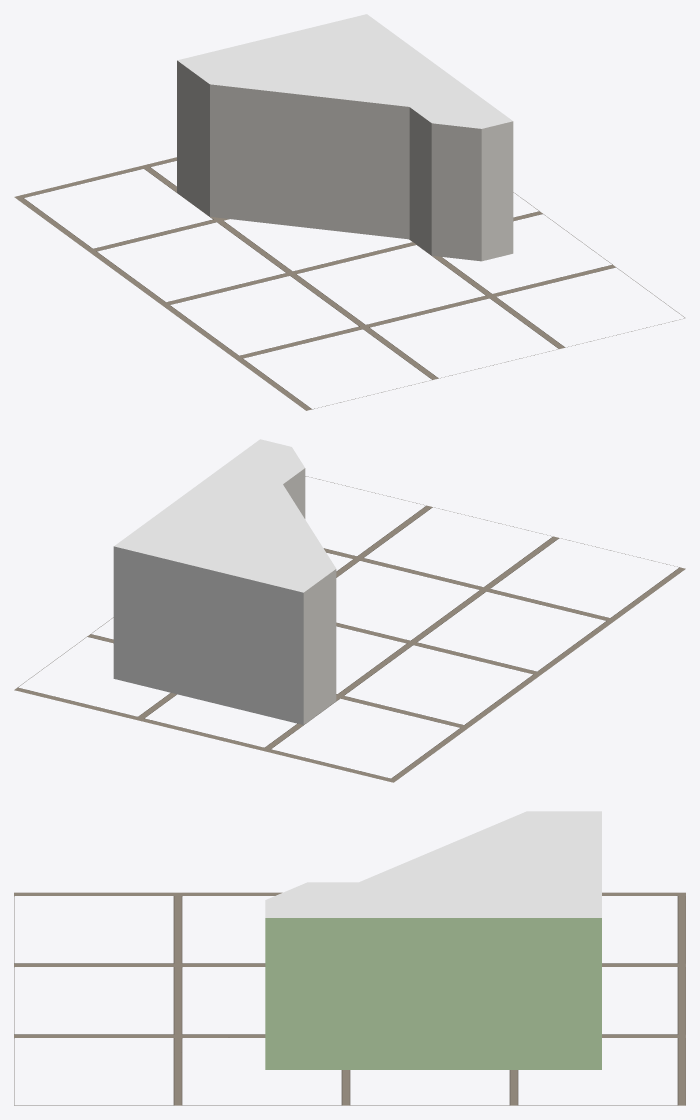
The model's file is Cave_Edge_Esse_Mid_2x3.glb.
The picture shows the model from 3 angles, top to bottom: view 1: azimuth 30°, elevation 25°; view 2: azimuth 150°, elevation 25°; view 3: azimuth 270°, elevation 25°; orthographic projection. The views are drawn at different scales.
Parts seen in each view (by area): view 1: Cave_Edge_Esse_Mid_2x3, Floor; view 2: Cave_Edge_Esse_Mid_2x3, Floor; view 3: Cave_Edge_Esse_Mid_2x3, Floor.
Part boxes in pixels (x1,y1,x2,y2): Cave_Edge_Esse_Mid_2x3: (177, 14, 513, 261); Floor: (14, 157, 684, 410); Cave_Edge_Esse_Mid_2x3: (113, 439, 336, 724); Floor: (14, 476, 685, 782); Cave_Edge_Esse_Mid_2x3: (265, 811, 601, 1069); Floor: (14, 892, 685, 1105).
Bounding box in the file's own units: 300 × 100 × 400.
Materials: 4 (1 with a texture image).
